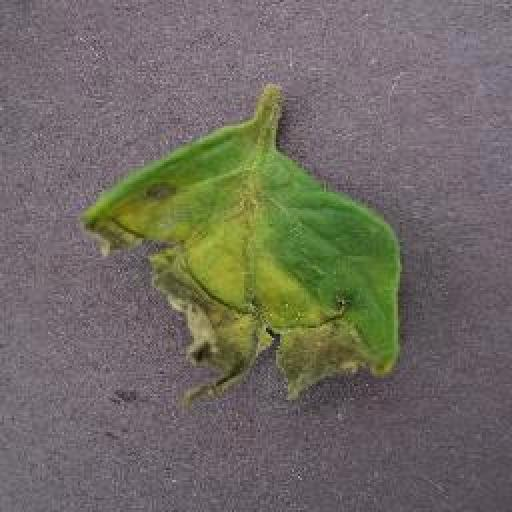disease_tomato: (80, 110, 404, 408)
